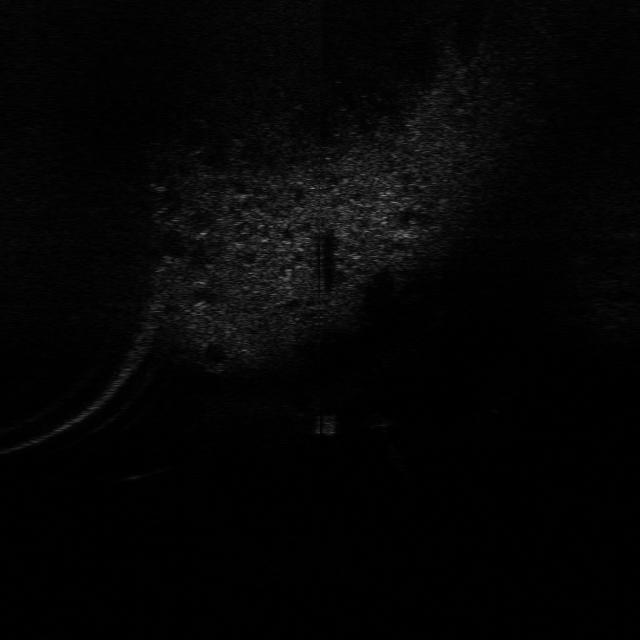cube: (362, 406, 397, 433)
cylinder: (307, 408, 341, 440)
